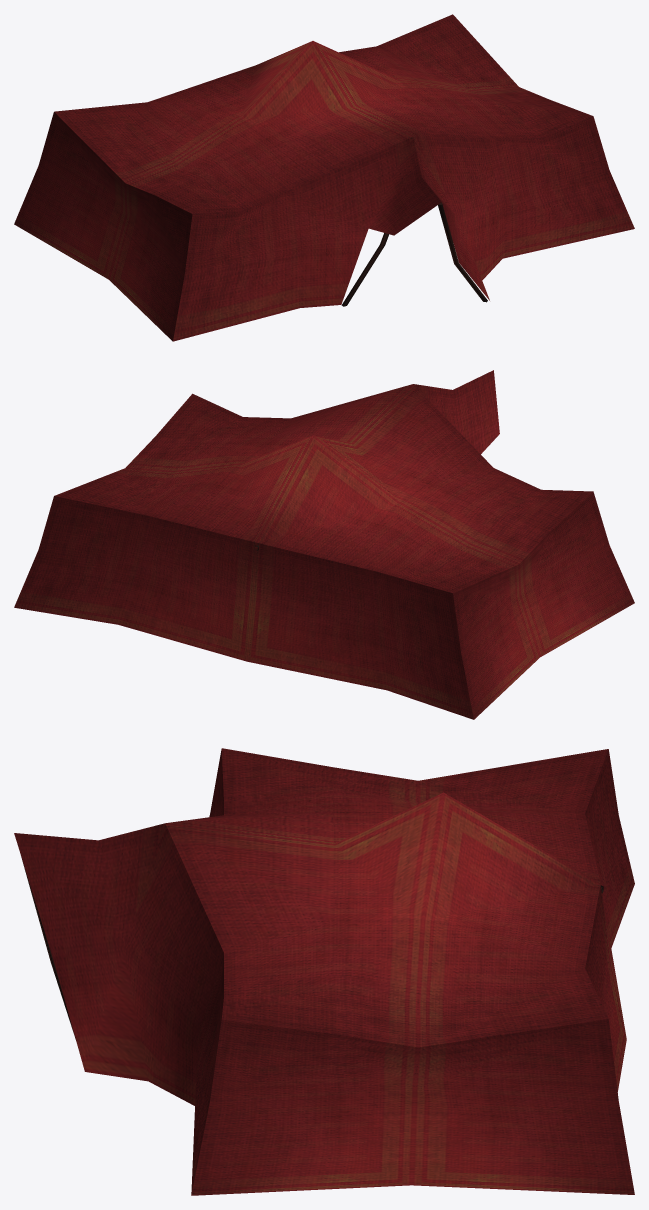
Rendered from Tent_03.fbx.
3 renders of one model, top to bottom at view 1: azimuth 30°, elevation 25°; view 2: azimuth 150°, elevation 25°; view 3: azimuth 270°, elevation 25°, orthographic. The views are drawn at different scales.
Parts seen in each view (by area): view 1: Tent_03; view 2: Tent_03; view 3: Tent_03.
Part boxes in pixels (x1,y1,x2,y2): Tent_03: [14, 14, 634, 341]; Tent_03: [14, 370, 634, 719]; Tent_03: [14, 748, 634, 1195].
Bounding box in the file's own units: 1.72 × 0.6344 × 1.45.
